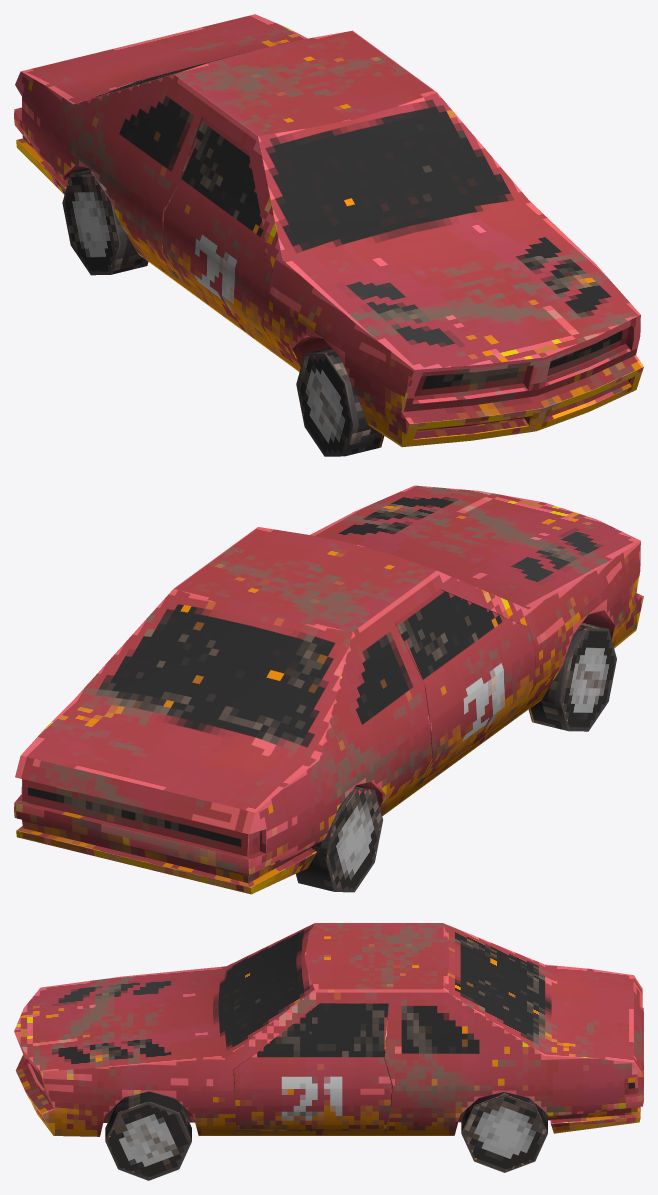
File: Car01.fbx
The picture shows the model from 3 angles, top to bottom: view 1: azimuth 30°, elevation 25°; view 2: azimuth 150°, elevation 25°; view 3: azimuth 270°, elevation 25°; orthographic projection. The views are drawn at different scales.
Parts seen in each view (by area): view 1: Car01; view 2: Car01; view 3: Car01.
Boxes of the visible parts, box(x1,y1,x2,y2) form: Car01: box(14, 14, 643, 456); Car01: box(14, 485, 643, 894); Car01: box(14, 923, 643, 1180).
Bounding box in the file's own units: 116 × 93.6 × 305.
